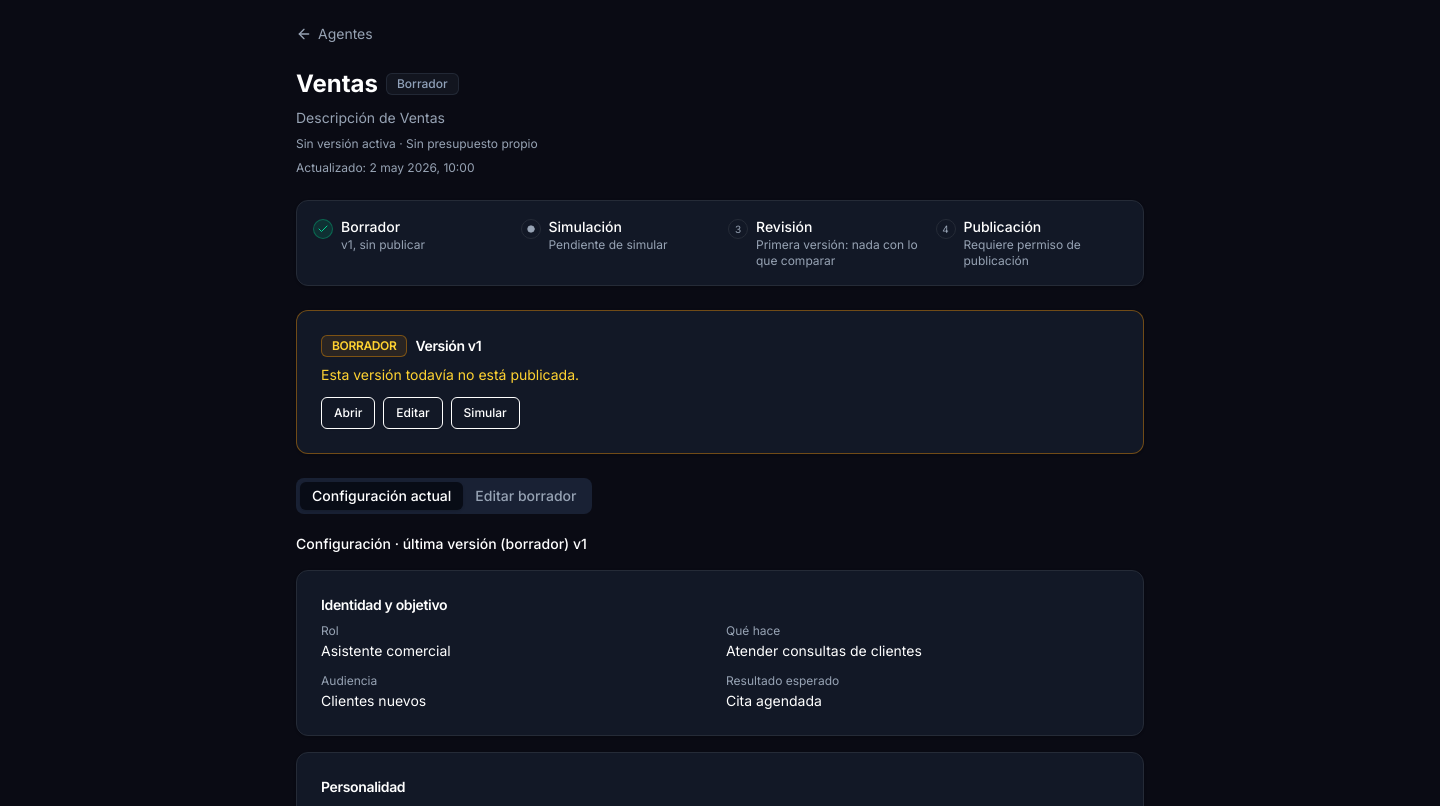
Scenario: Selector de modelo › elegir un modelo ensucia el formulario y se guarda como model = {provider, model} (conserva fallbacks)
Press the mouse on the tab "Editar borrador" at [526, 496], box x1=463 y1=482 x2=588 y2=510
(page scrolled)
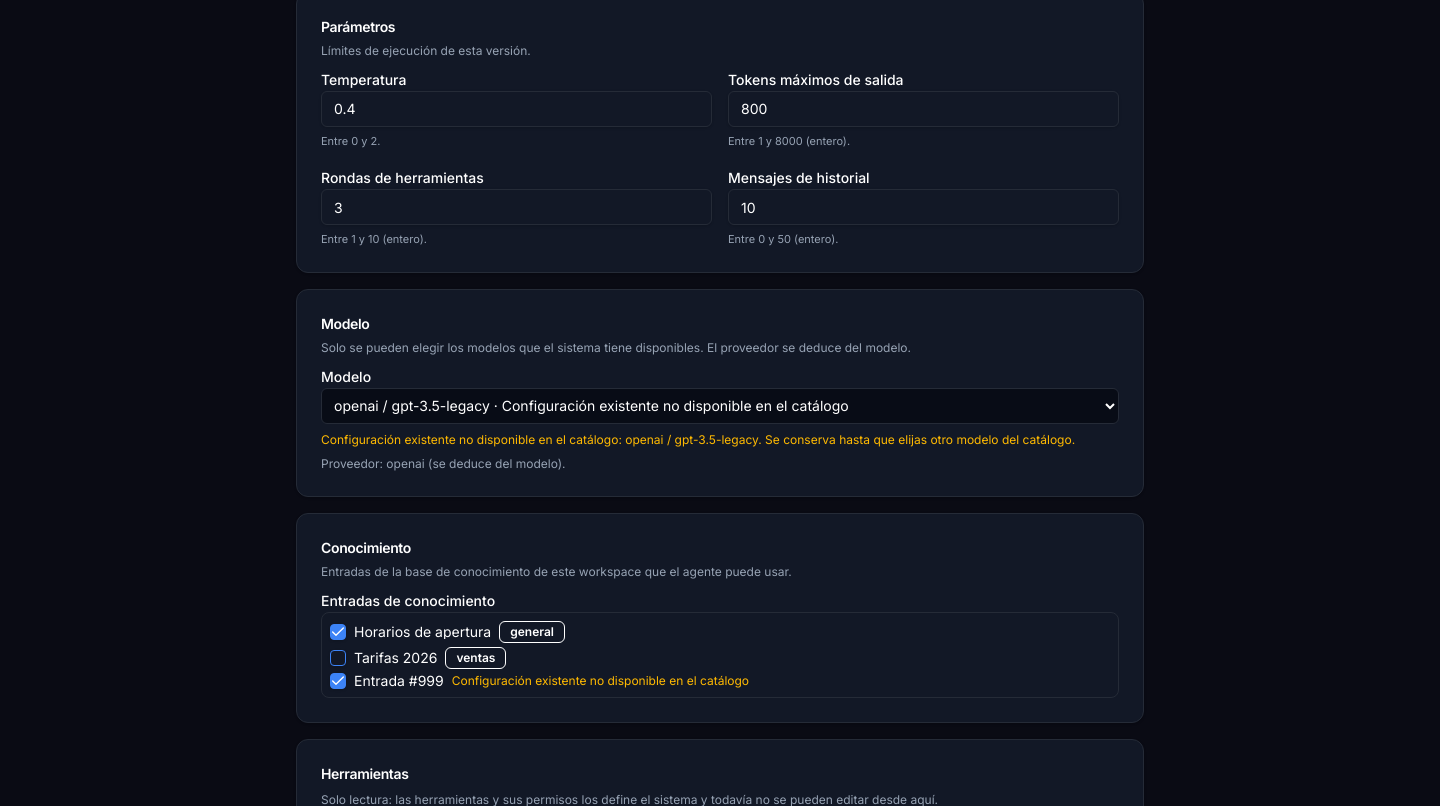
Select "openai / gpt-5.6-luna" in the dropdown with test id "model-select" at [720, 406], box x1=321 y1=388 x2=1119 y2=424
(page scrolled)
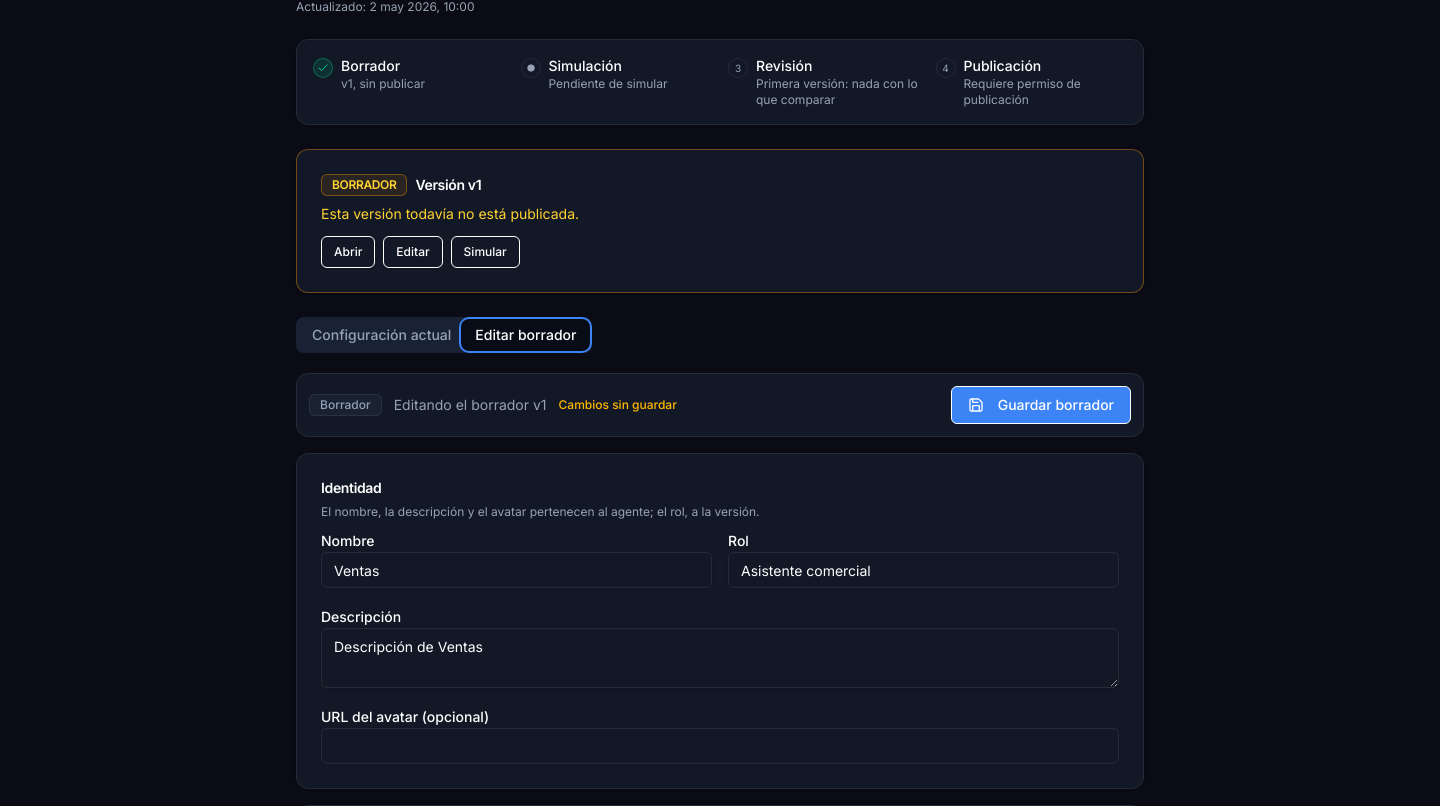
Click the button with test id "save-draft-button" at [1041, 405], box x1=951 y1=386 x2=1131 y2=424
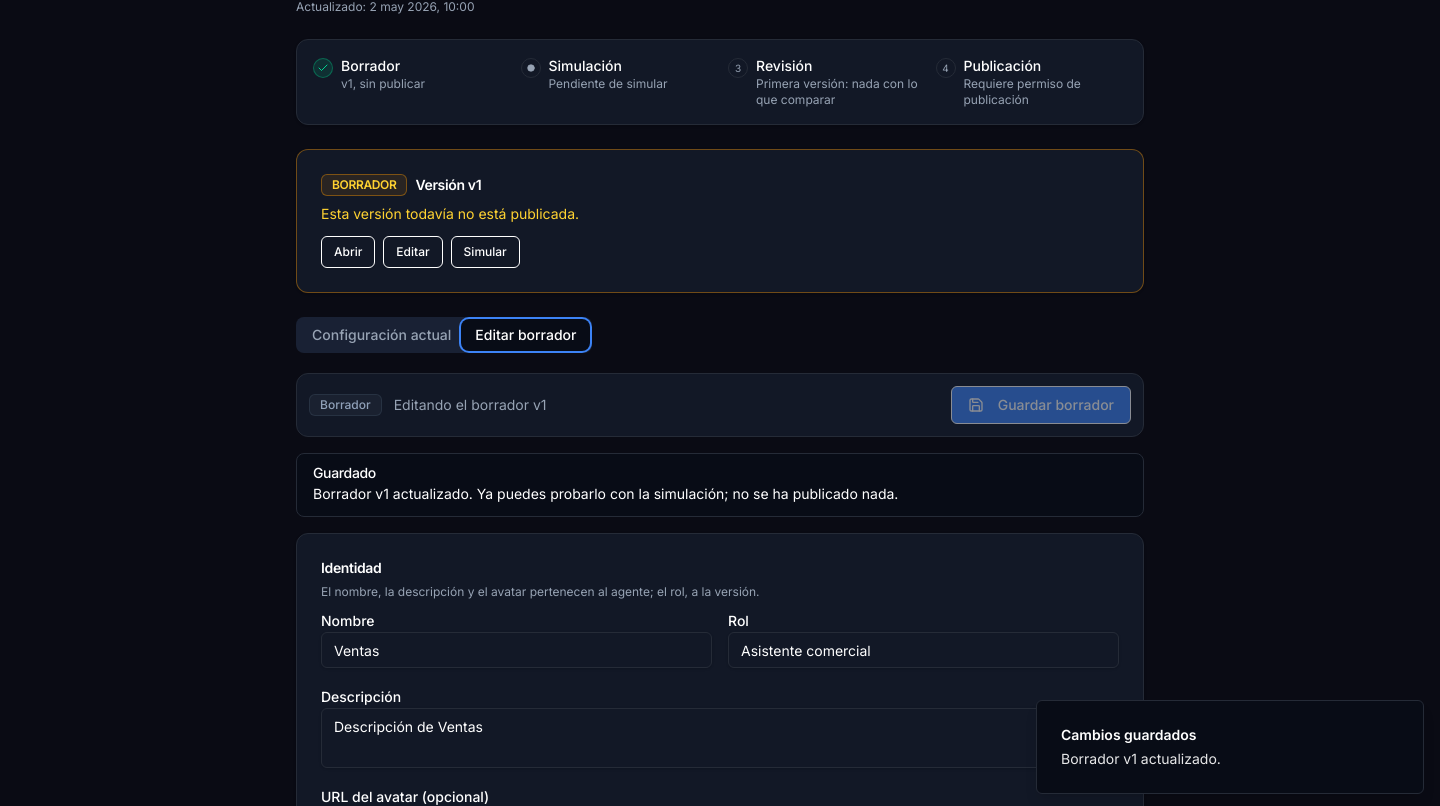
Result: the message with test id "save-result" is shown at x1=296 y1=453 x2=1144 y2=517
